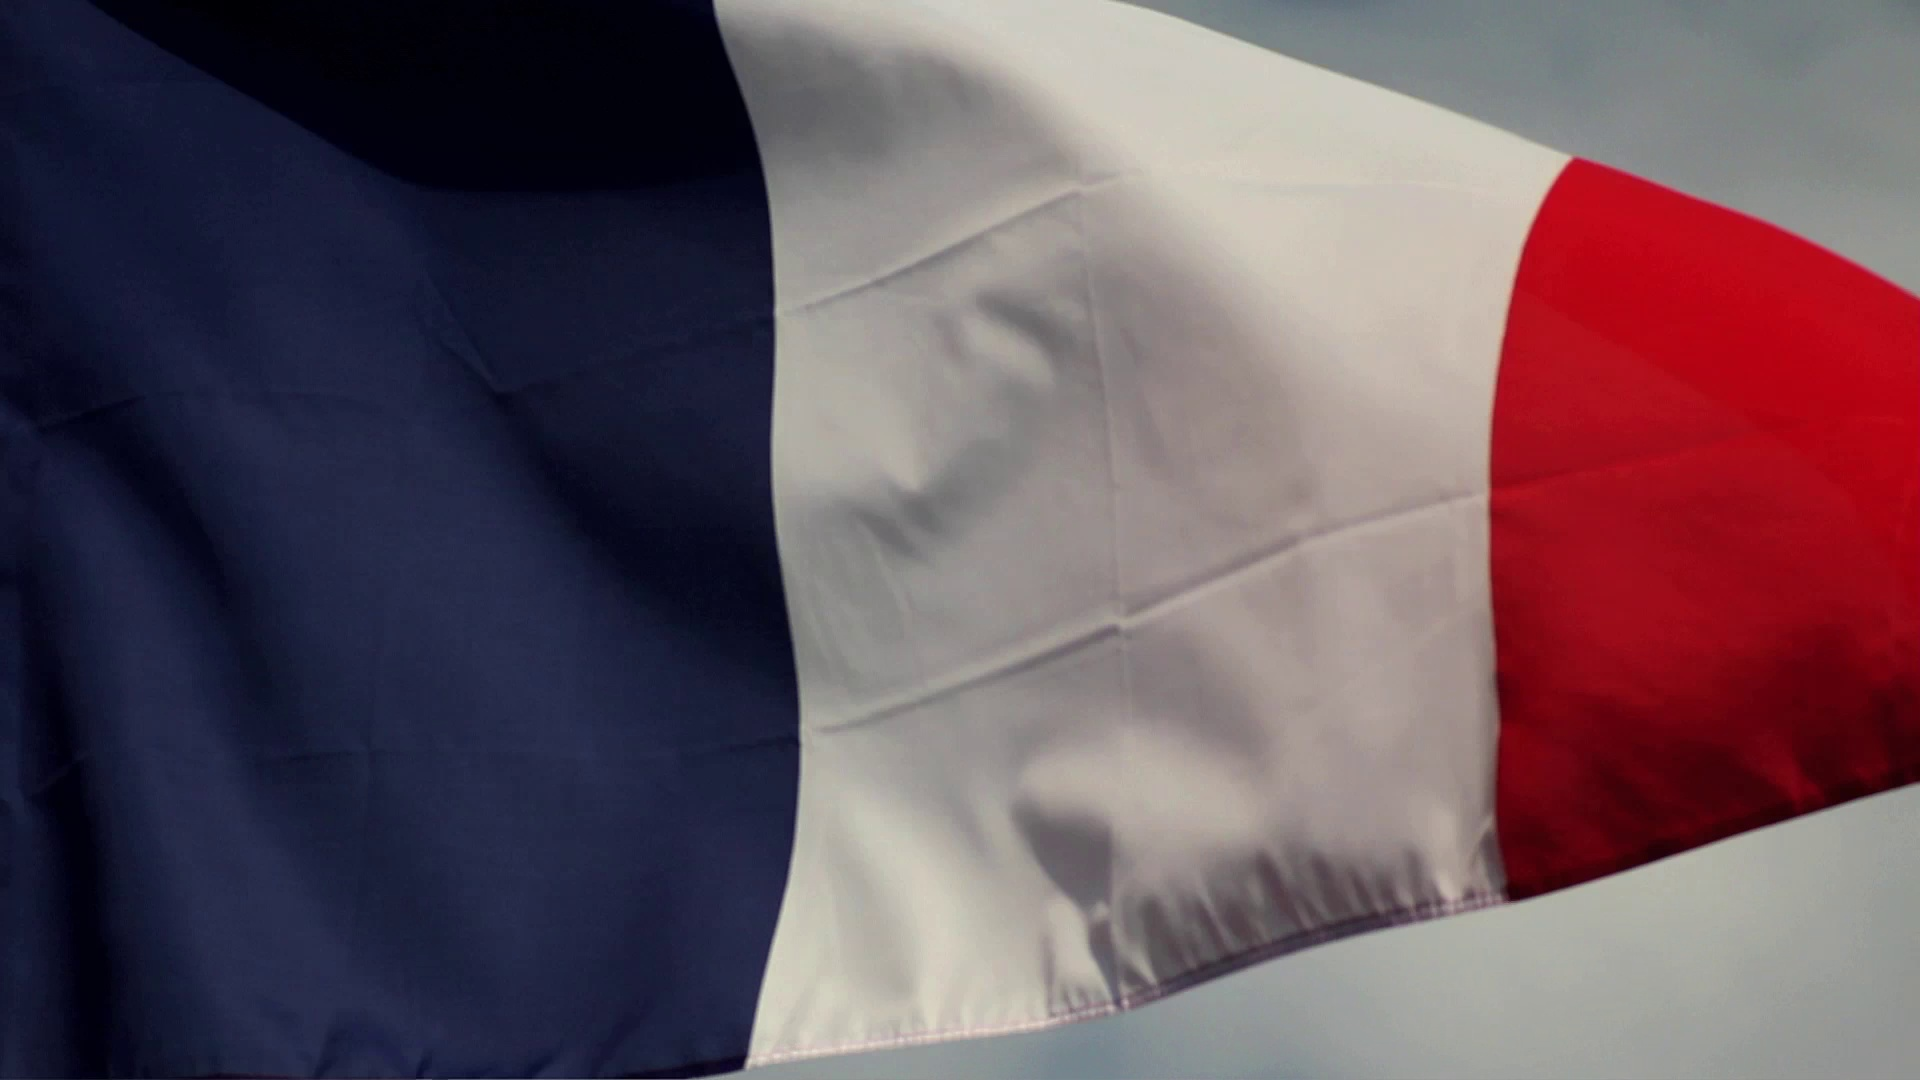French Flag: (1, 1, 1915, 1080)
